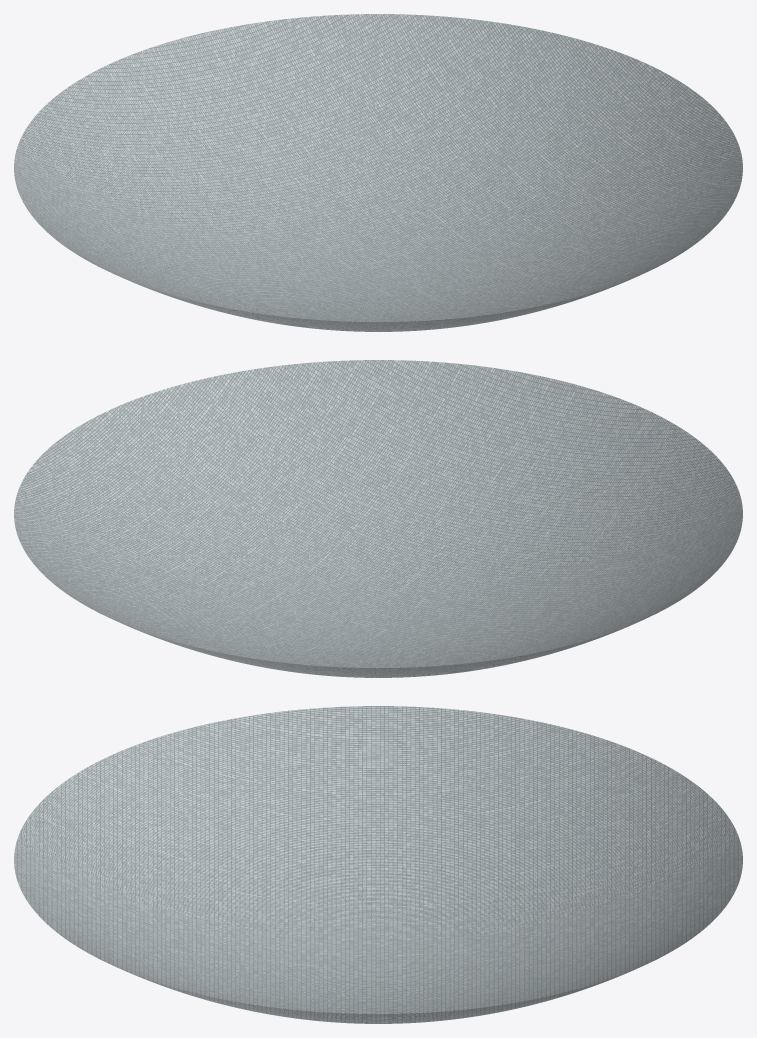
File: earth3d2-arecibo-reflector.glb
The picture shows the model from 3 angles, top to bottom: view 1: azimuth 30°, elevation 25°; view 2: azimuth 150°, elevation 25°; view 3: azimuth 270°, elevation 25°; orthographic projection.
Visible parts, largest first — view 1: Nominal spherical reflector surface; zero thickness; view 2: Nominal spherical reflector surface; zero thickness; view 3: Nominal spherical reflector surface; zero thickness.
Boxes of the visible parts, x1,y1,x2,y2 form: Nominal spherical reflector surface; zero thickness: (14,14,742,331); Nominal spherical reflector surface; zero thickness: (14,360,742,677); Nominal spherical reflector surface; zero thickness: (14,706,742,1023).
Bounding box in the file's own units: 305 × 48.28 × 305.
Materials: 1 (1 with a texture image).
